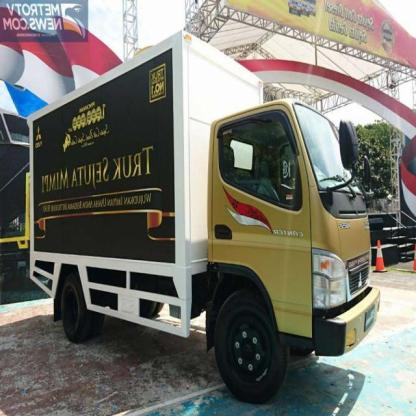truck: (30, 29, 383, 399)
